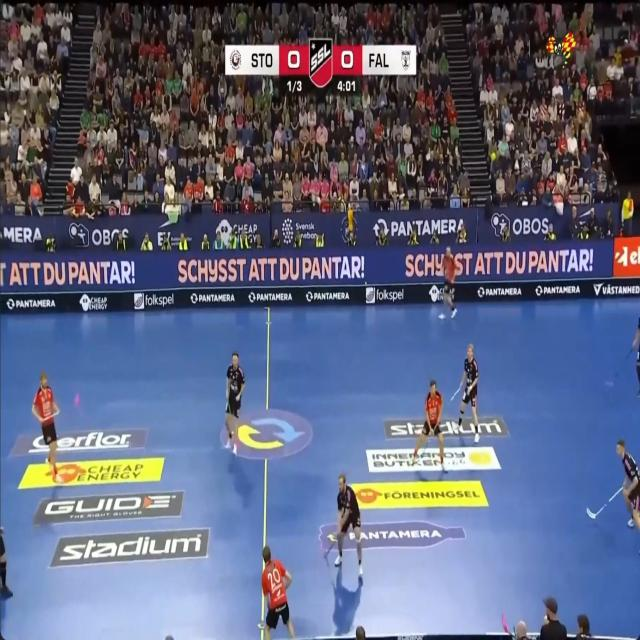player: (31, 372, 62, 482), (411, 379, 446, 472), (261, 545, 294, 639), (334, 473, 362, 575), (617, 439, 640, 529), (458, 344, 479, 442), (225, 352, 245, 453), (442, 246, 456, 317), (0, 526, 13, 599), (632, 317, 640, 390), (439, 312, 445, 319)
stick: (586, 486, 623, 519), (605, 347, 634, 385), (501, 613, 515, 639), (323, 536, 336, 560), (451, 387, 461, 401), (52, 410, 59, 417), (258, 621, 265, 628)
